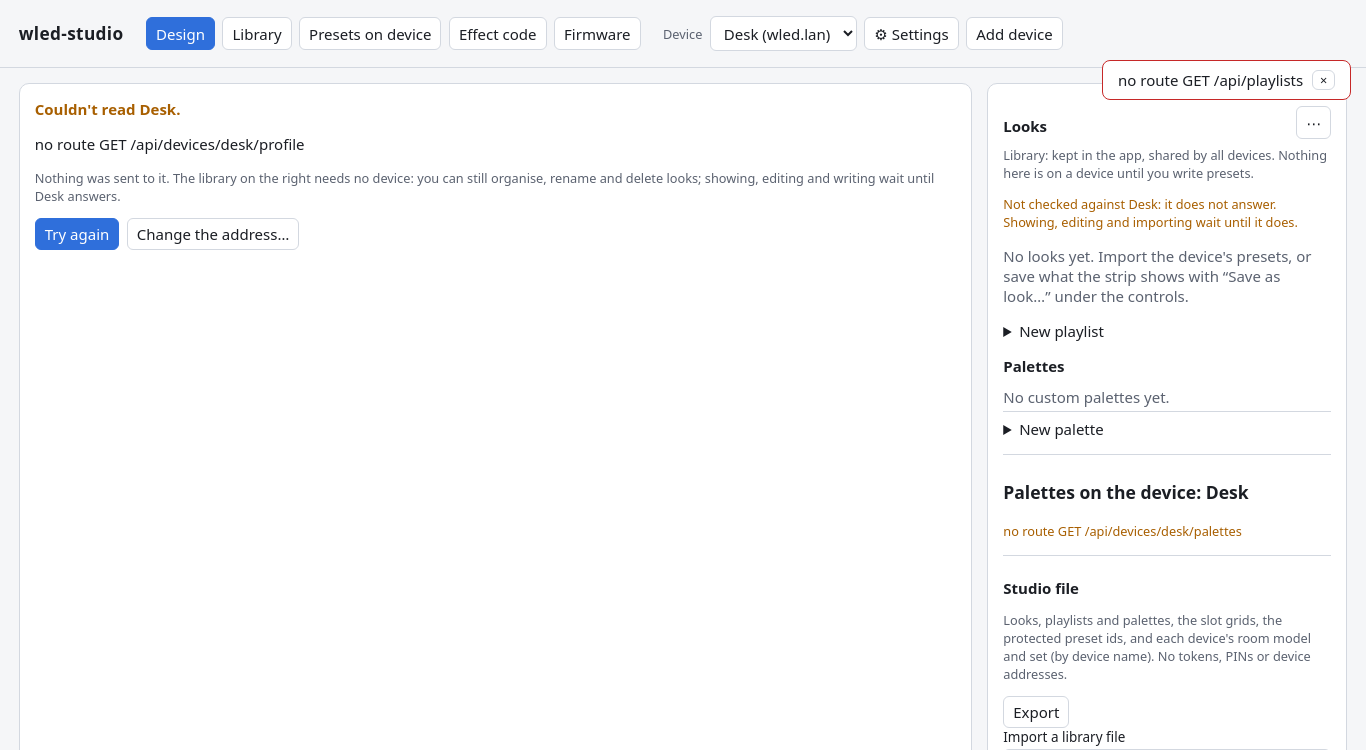
Test: errors are shown
Expected: the message shows "no route", [1118,70,1303,90]
Expected: the number of messages is 1, [1102,60,1351,100]
Click the button named "Dismiss" at {"x": 1324, "y": 80}, box [1312,70,1335,90]
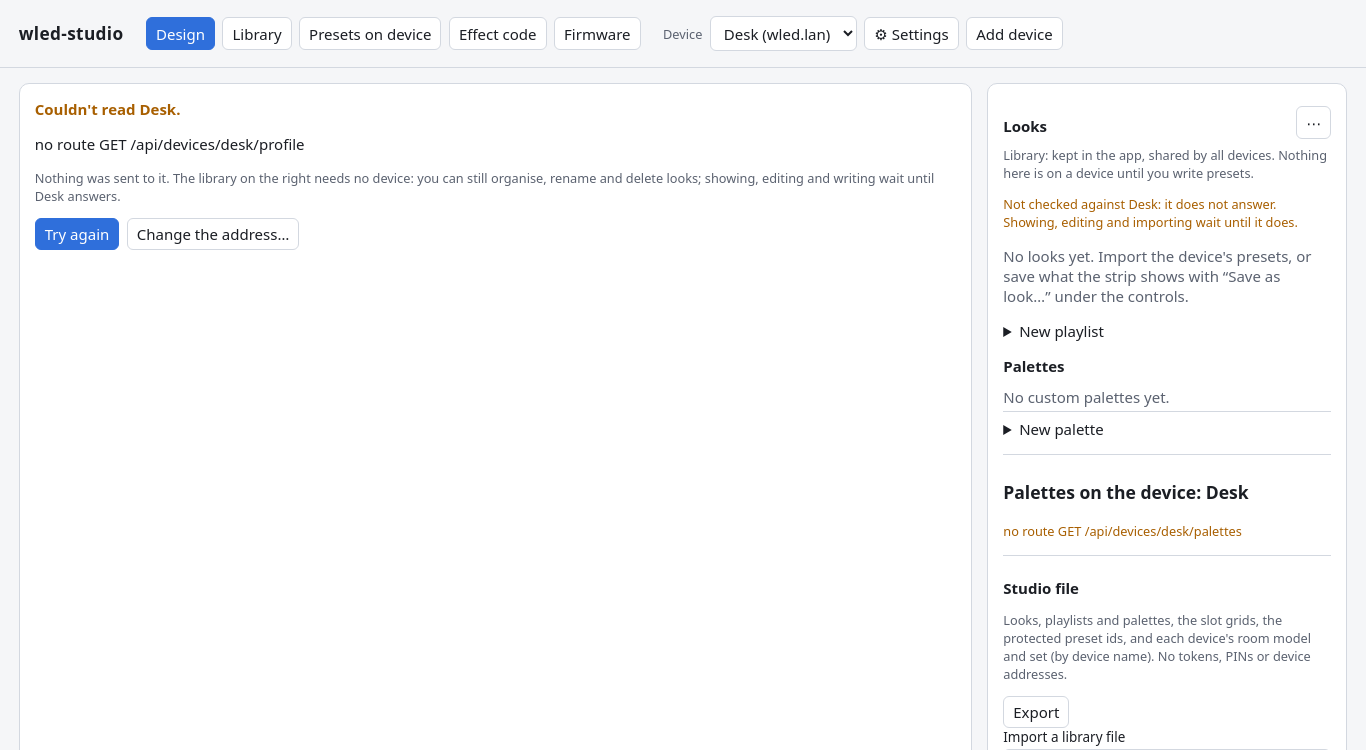
Now the message "no route GET /api/playlists ×" is gone
